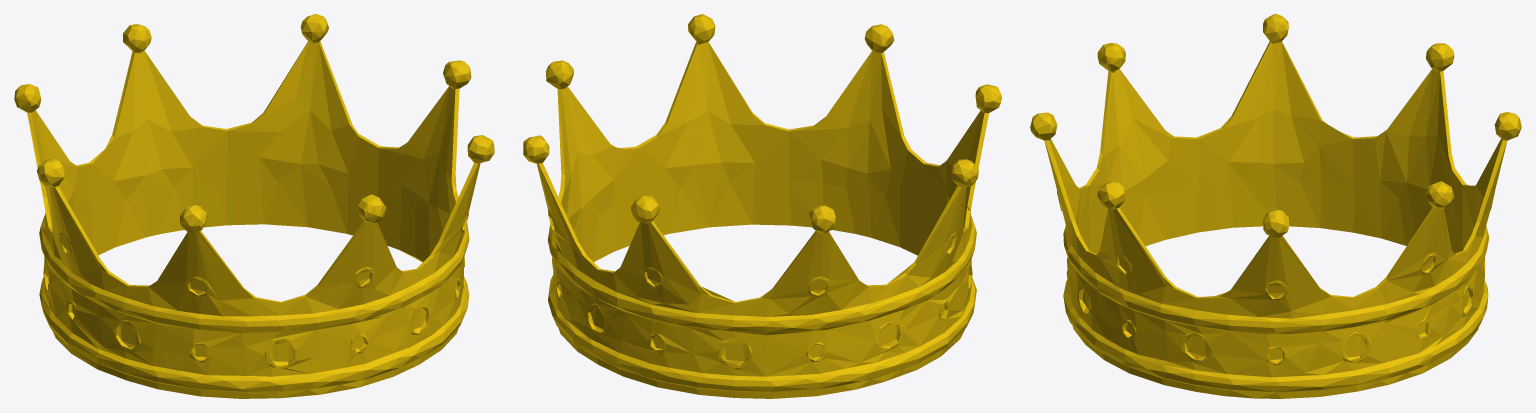
Rendered from Crown.fbx.
The picture shows the model from 3 angles, left to right: view 1: azimuth 30°, elevation 25°; view 2: azimuth 150°, elevation 25°; view 3: azimuth 270°, elevation 25°; orthographic projection.
Visible parts, largest first — view 1: Crown 4 LP; view 2: Crown 4 LP; view 3: Crown 4 LP.
Boxes of the visible parts, x1,y1,x2,y2 form: Crown 4 LP: (14, 14, 494, 398); Crown 4 LP: (523, 14, 1001, 398); Crown 4 LP: (1030, 14, 1521, 398).
Bounding box in the file's own units: 2583 × 1151 × 2587.
